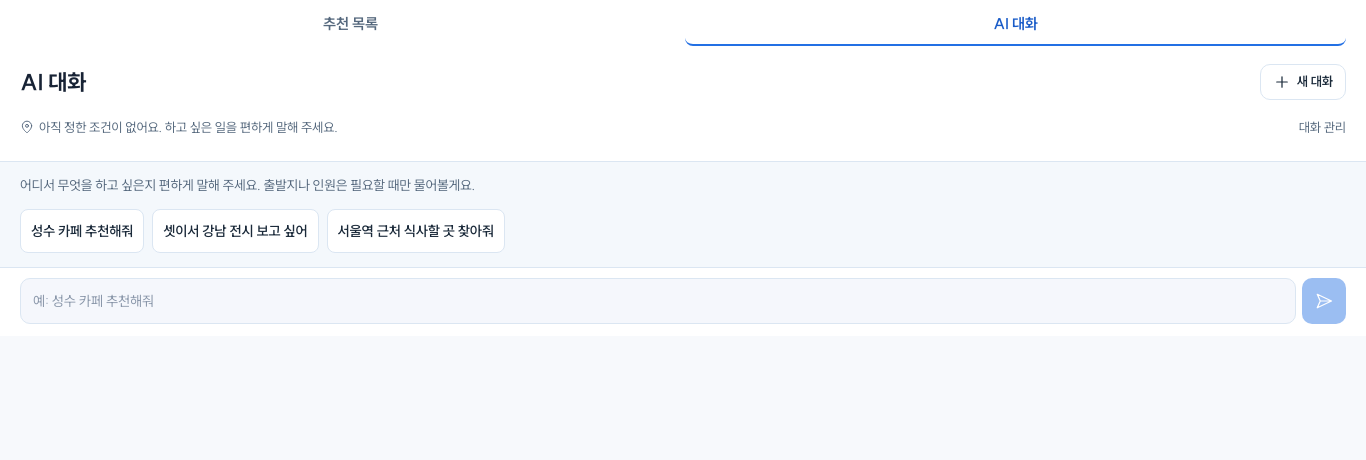
Test: ChatPanel › UI-08 처리 중 중단하면 서버의 중단 결과와 미반영을 표시한다
Type "성수 카페 추천해줘" into the field named "AI에게 보낼 메시지" at point(658, 301), box [20,278,1296,324]
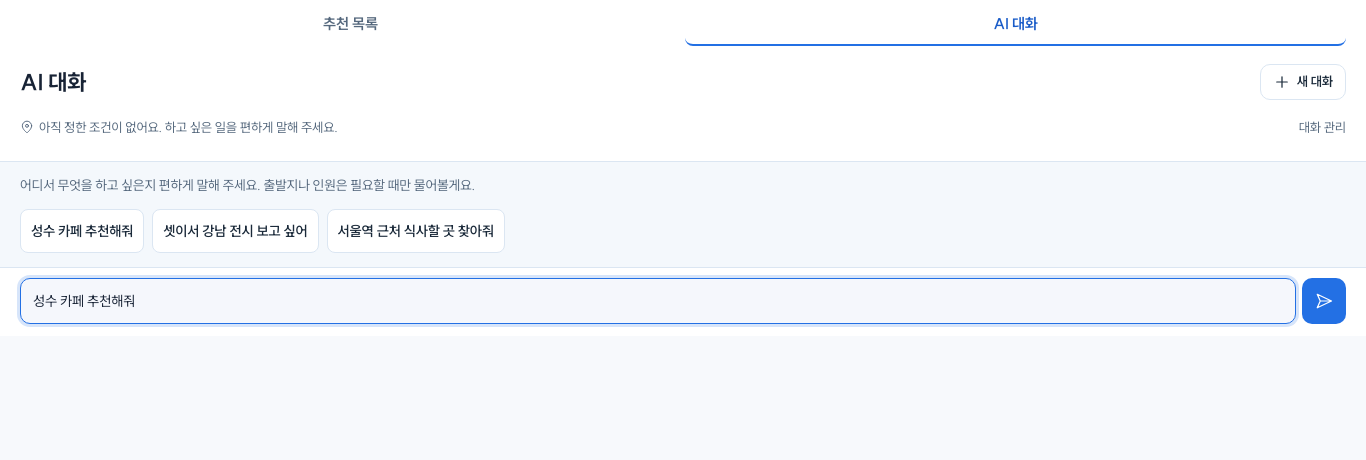
Click the button named "보내기" at point(1324, 301), box [1302,278,1346,324]
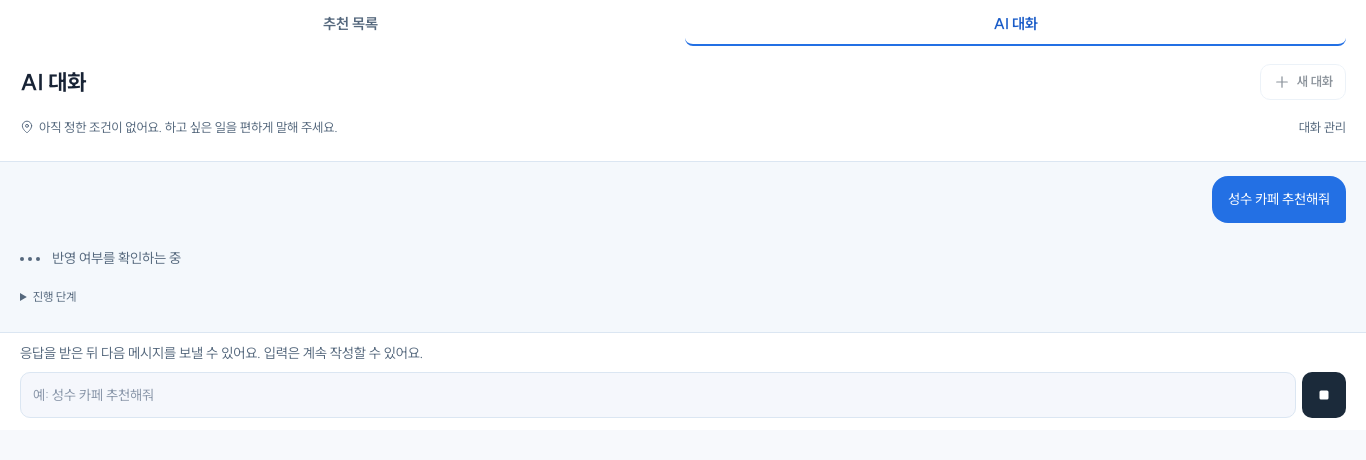
Check: the button "중단" is not shown
Click the button named "응답 중지" at point(1324, 395), box [1302,372,1346,418]
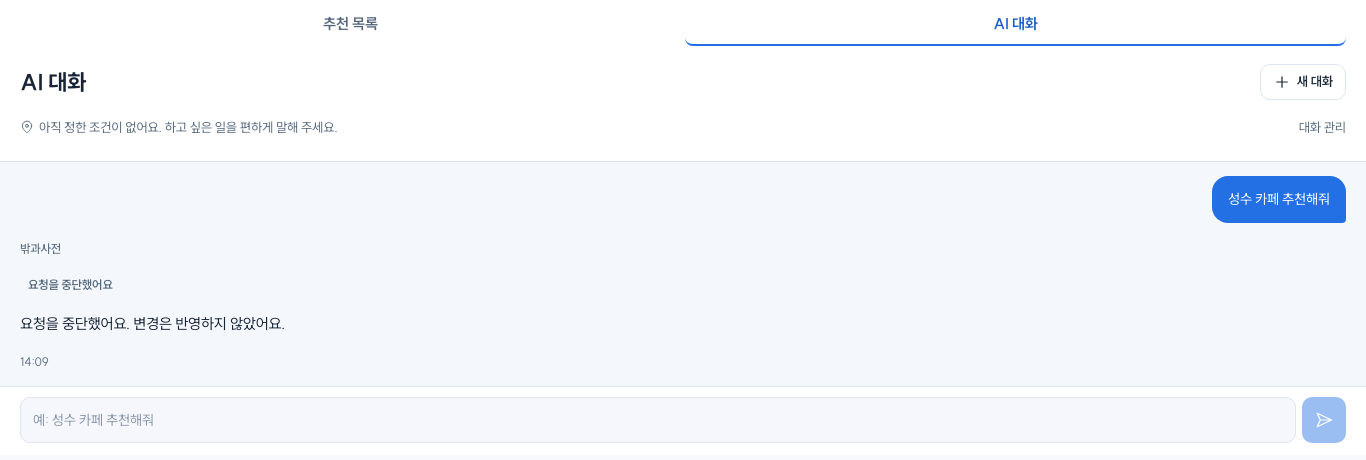
Check: the text "요청을 중단했어요" is shown, box [20,274,121,296]
